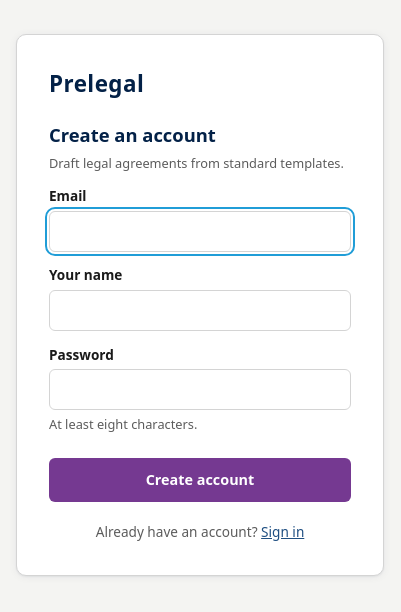
the sign up screen › says so when the server cannot be reached at all
The width and height of the screenshot is (401, 612).
Type "ada@example.com" into the field labelled "Email" at (200, 231), box x1=49 y1=211 x2=351 y2=252
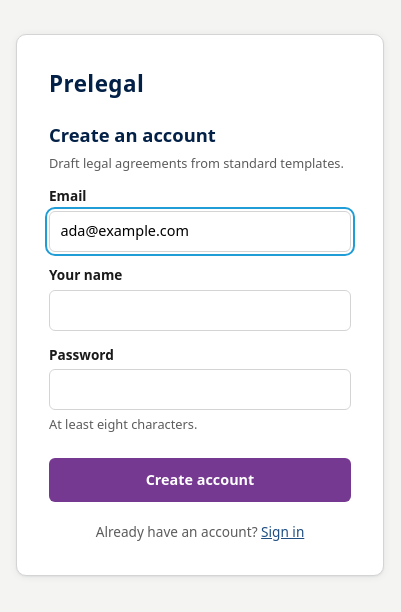
Type "Ada" into the field labelled "Your name" at (200, 310), box x1=49 y1=290 x2=351 y2=331
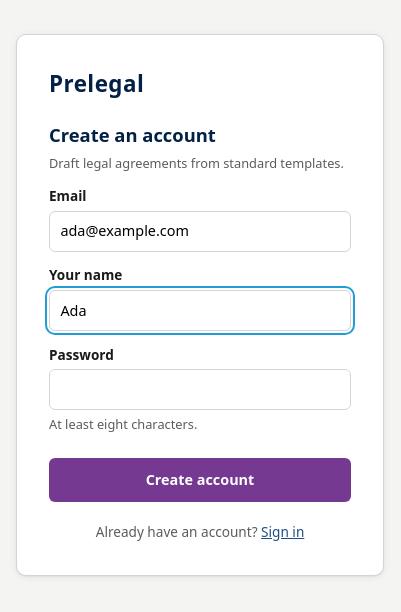
Type "opensesame" into the password field labelled "Password" at (200, 390), box x1=49 y1=369 x2=351 y2=410
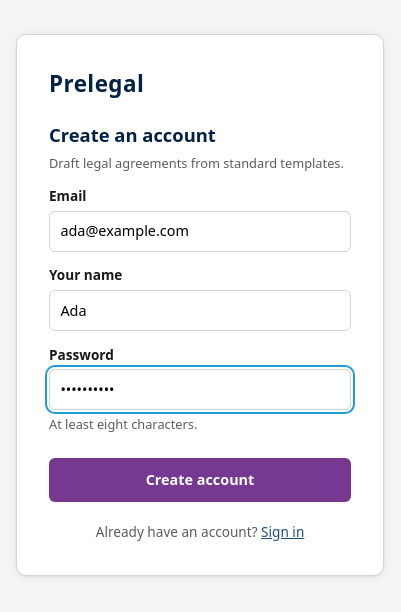
Click the button "Create account" at (200, 480), box x1=49 y1=458 x2=351 y2=502
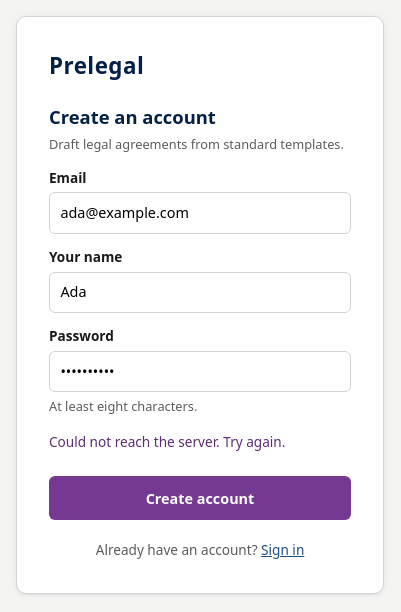
Expected: the message shows "Could not reach the server", x1=49 y1=432 x2=285 y2=451
